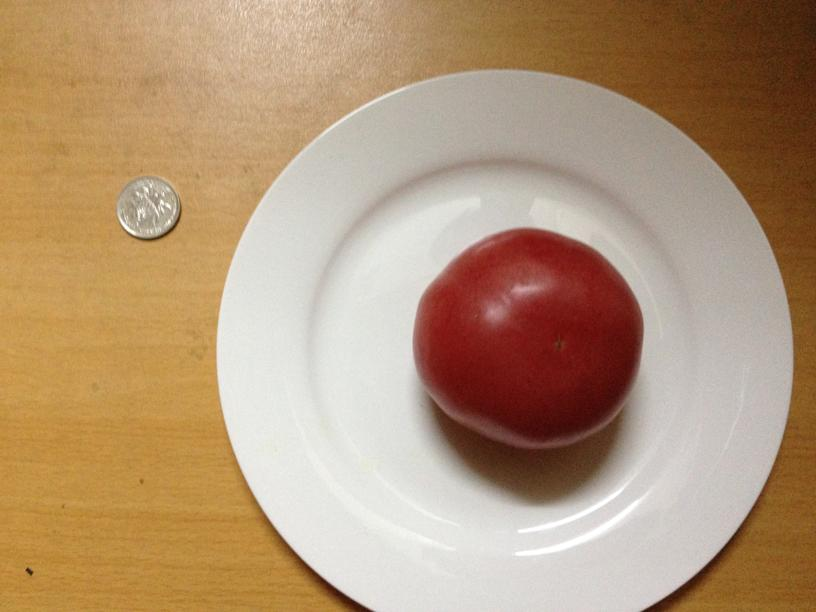coin: (114, 175, 181, 238)
tomato: (409, 229, 644, 450)
